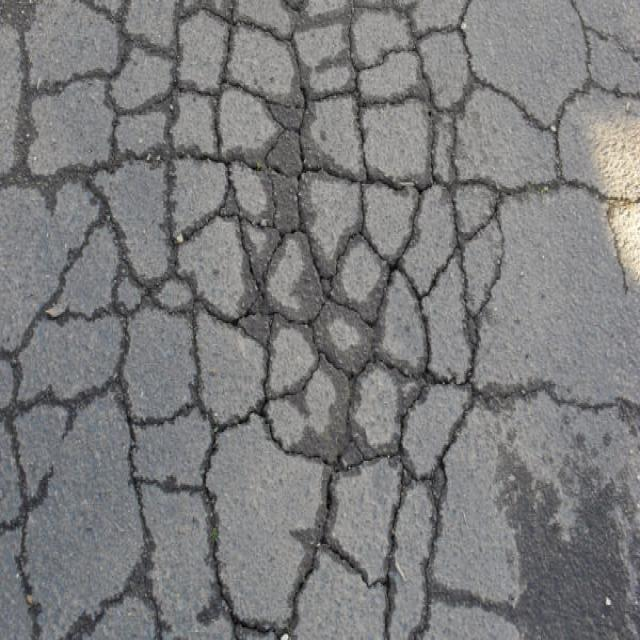Drain Hole: (8, 0, 616, 546)
